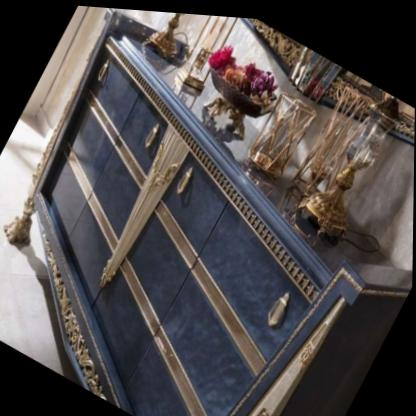Sideboard: (3, 14, 365, 416)
